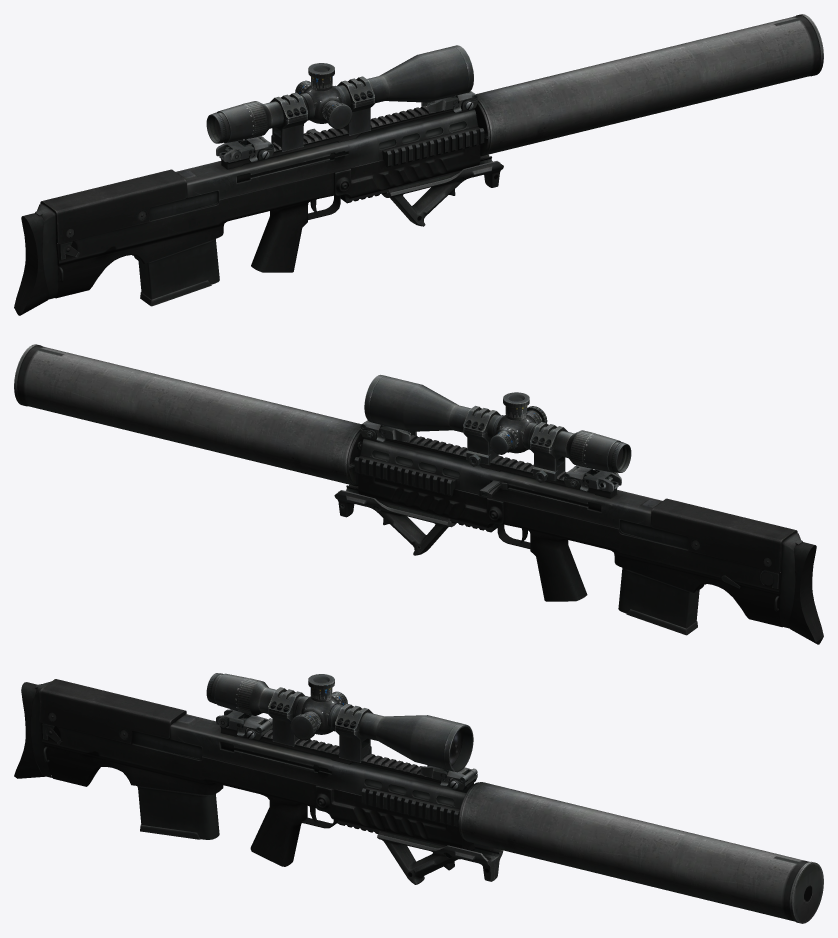
File: rifle.glb
3 views of the same model, one above another, from view 1: azimuth 30°, elevation 25°; view 2: azimuth 150°, elevation 25°; view 3: azimuth 330°, elevation 25° (orthographic).
Parts seen in each view (by area): view 1: suppressor_mesh, stock_mesh, scope_mesh, receiver_mesh, cheekrest_mesh, handguard_mesh, magazine_mesh, buttpad_mesh, foregrip_mesh, sight_rear_mesh, sight_front_mesh; view 2: suppressor_mesh, stock_mesh, scope_mesh, receiver_mesh, cheekrest_mesh, handguard_mesh, magazine_mesh, buttpad_mesh, foregrip_mesh, sight_rear_mesh, sight_front_mesh; view 3: suppressor_mesh, stock_mesh, scope_mesh, receiver_mesh, cheekrest_mesh, handguard_mesh, magazine_mesh, foregrip_mesh, buttpad_mesh, sight_rear_mesh, sight_front_mesh.
Boxes of the visible parts, x1=… form: suppressor_mesh: x1=474, y1=14, x2=823, y2=156; stock_mesh: x1=55, y1=167, x2=350, y2=298; scope_mesh: x1=206, y1=45, x2=473, y2=151; receiver_mesh: x1=176, y1=105, x2=477, y2=199; cheekrest_mesh: x1=40, y1=169, x2=217, y2=244; handguard_mesh: x1=334, y1=121, x2=484, y2=203; magazine_mesh: x1=138, y1=239, x2=219, y2=306; buttpad_mesh: x1=14, y1=204, x2=58, y2=315; foregrip_mesh: x1=382, y1=154, x2=503, y2=226; sight_rear_mesh: x1=216, y1=136, x2=273, y2=162; sight_front_mesh: x1=421, y1=91, x2=477, y2=113; suppressor_mesh: x1=14, y1=344, x2=363, y2=486; stock_mesh: x1=489, y1=497, x2=782, y2=627; scope_mesh: x1=364, y1=374, x2=631, y2=482; receiver_mesh: x1=360, y1=435, x2=662, y2=528; cheekrest_mesh: x1=620, y1=498, x2=797, y2=573; handguard_mesh: x1=354, y1=450, x2=504, y2=532; magazine_mesh: x1=618, y1=568, x2=699, y2=635; buttpad_mesh: x1=779, y1=533, x2=823, y2=644; foregrip_mesh: x1=334, y1=484, x2=456, y2=555; sight_rear_mesh: x1=564, y1=465, x2=621, y2=491; sight_front_mesh: x1=360, y1=420, x2=416, y2=442; suppressor_mesh: x1=458, y1=782, x2=823, y2=923; stock_mesh: x1=40, y1=722, x2=337, y2=866; scope_mesh: x1=206, y1=673, x2=473, y2=772; receiver_mesh: x1=169, y1=714, x2=474, y2=809; cheekrest_mesh: x1=39, y1=679, x2=201, y2=757; handguard_mesh: x1=315, y1=779, x2=474, y2=851; magazine_mesh: x1=137, y1=786, x2=219, y2=839; foregrip_mesh: x1=377, y1=831, x2=503, y2=884; buttpad_mesh: x1=14, y1=681, x2=52, y2=778; sight_rear_mesh: x1=216, y1=709, x2=272, y2=740; sight_front_mesh: x1=421, y1=765, x2=477, y2=790.
Bounding box in the file's own units: 0.9588 × 0.223 × 0.0871.
6 materials, 5 textured.
